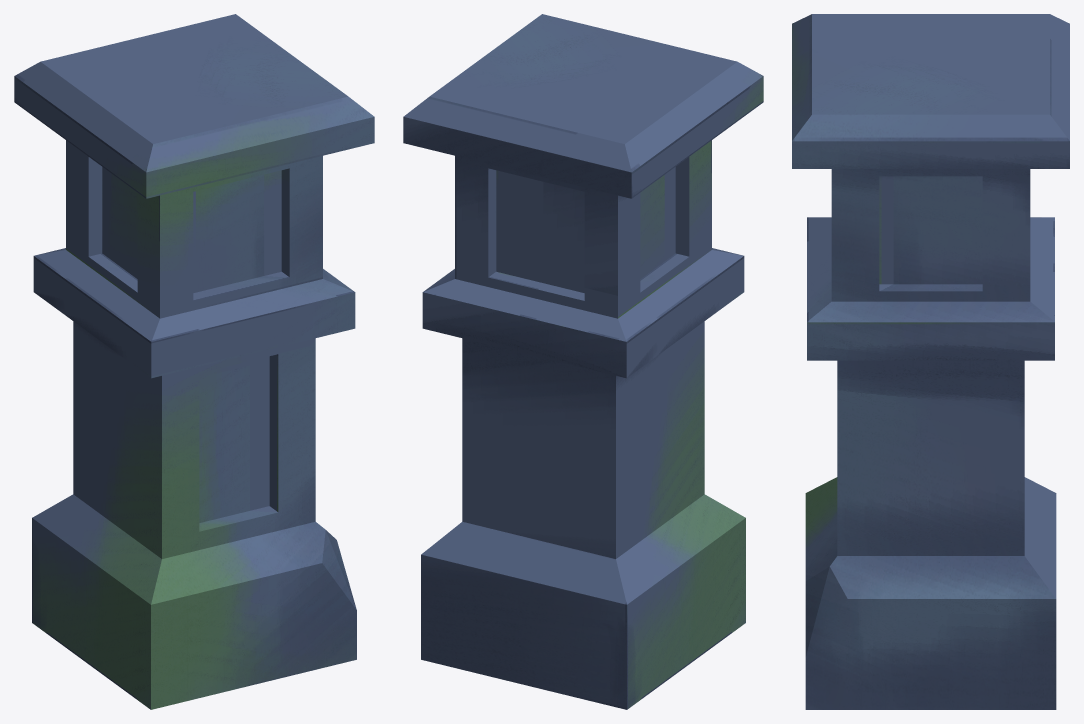
The model's file is stairs_tall_pillar.fbx.
3 renders of one model, left to right at view 1: azimuth 30°, elevation 25°; view 2: azimuth 150°, elevation 25°; view 3: azimuth 270°, elevation 25°, orthographic. The views are drawn at different scales.
Parts seen in each view (by area): view 1: Plane.004; view 2: Plane.004; view 3: Plane.004.
Boxes of the visible parts, bbox=[...] form: Plane.004: bbox=[14, 14, 374, 709]; Plane.004: bbox=[403, 14, 763, 709]; Plane.004: bbox=[792, 14, 1069, 709].
Size of the model in its own units: 0.9558 by 2.25 by 0.9558.
Materials: 1 (1 with a texture image).
